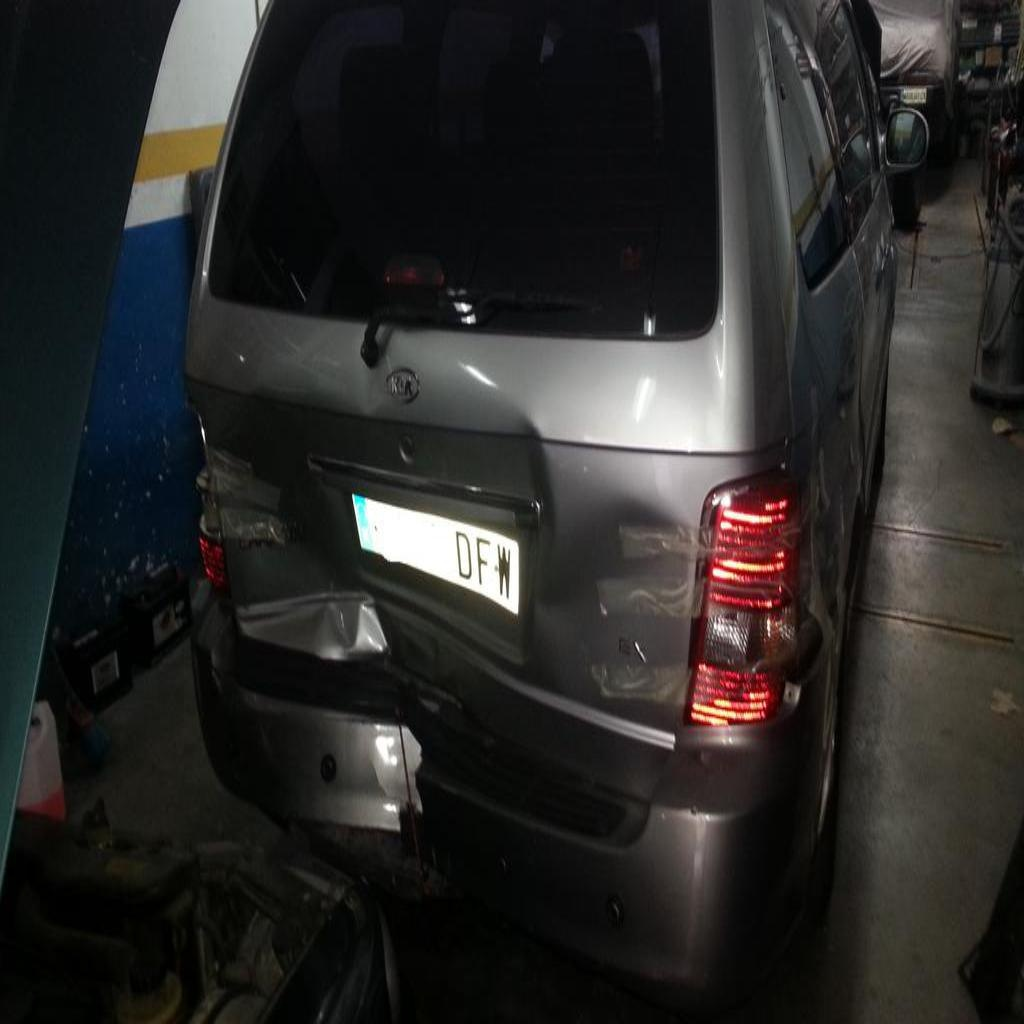Dent: (226, 375, 708, 821)
